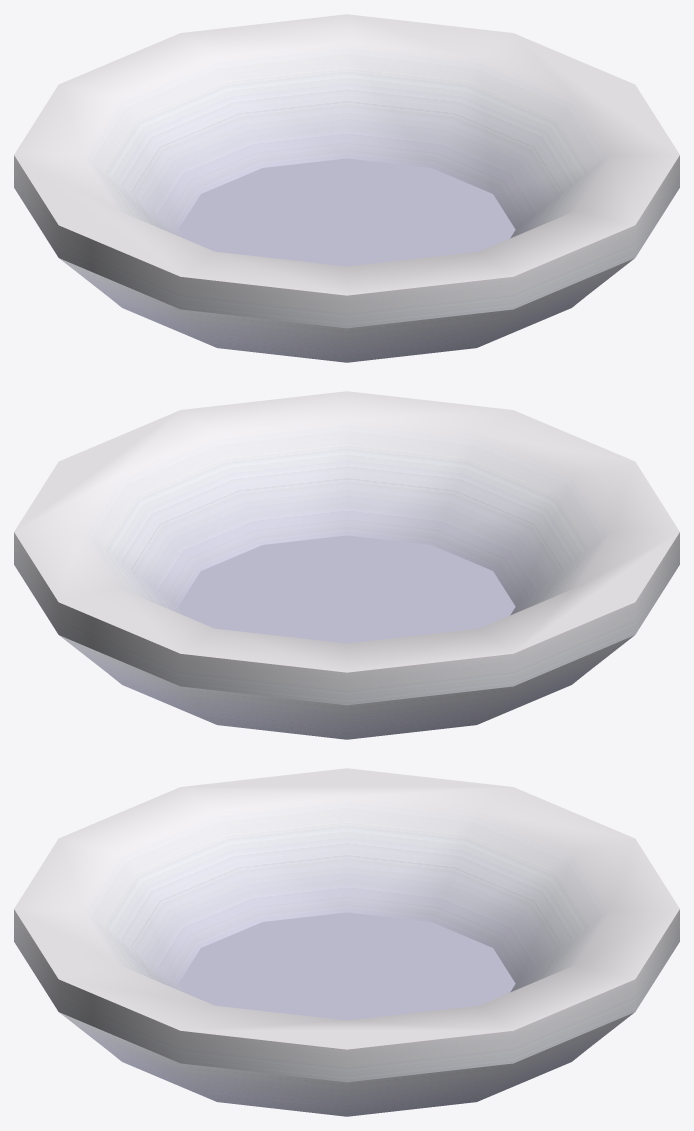
File: plate-deep.glb
3 renders of one model, top to bottom at view 1: azimuth 30°, elevation 25°; view 2: azimuth 150°, elevation 25°; view 3: azimuth 270°, elevation 25°, orthographic.
Visible parts, largest first — view 1: plate-deep; view 2: plate-deep; view 3: plate-deep.
Part boxes in pixels (x1,y1,x2,y2): plate-deep: (14, 14, 679, 362); plate-deep: (14, 391, 679, 739); plate-deep: (14, 768, 679, 1116).
Size of the model in its own units: 0.8918 by 0.1449 by 0.8918.
Materials: 1 (1 with a texture image).
